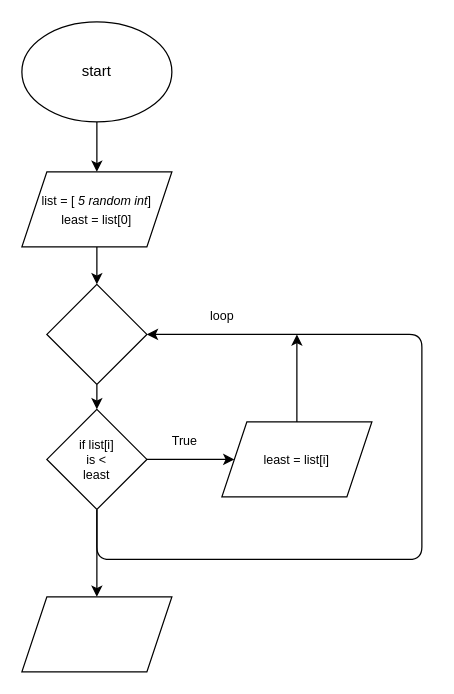
Some shapes in this 454 by 694 pixel diagram are drawn without their labels. Here are the shapes that lost their labels. From the top down, the centre of each, then its label:
the point at 96,333: for loop length of list
the point at 96,634: print least number
